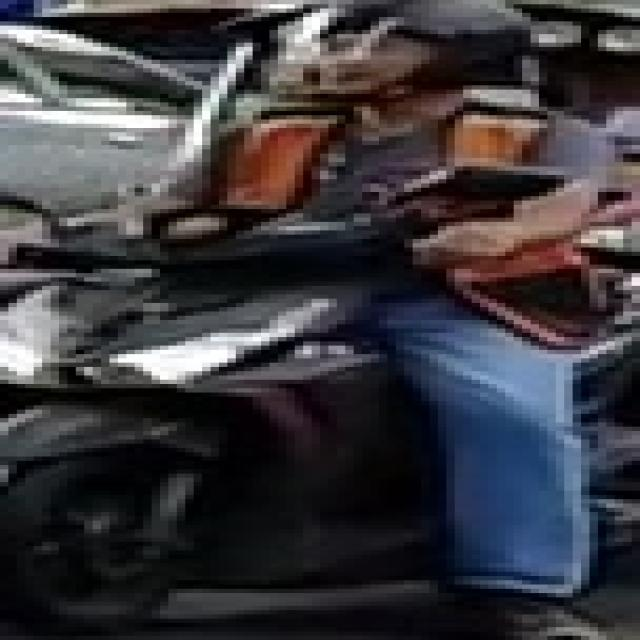door: (0, 0, 632, 636)
helmet: (261, 0, 539, 98)
